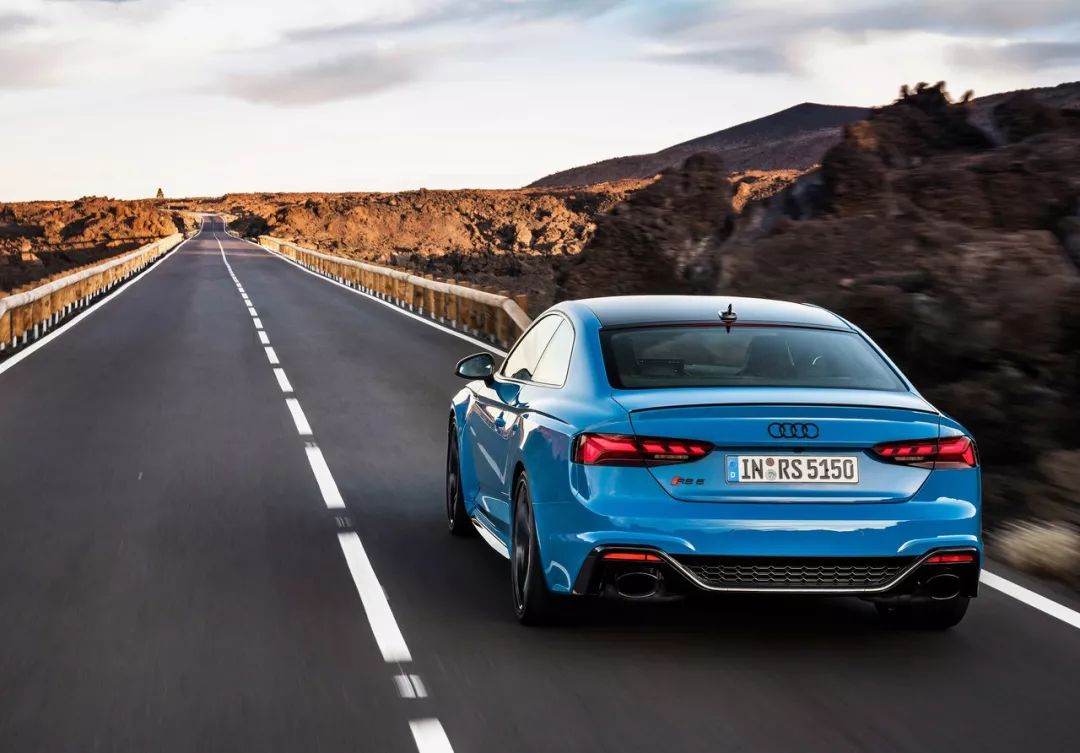car: (431, 287, 983, 659)
